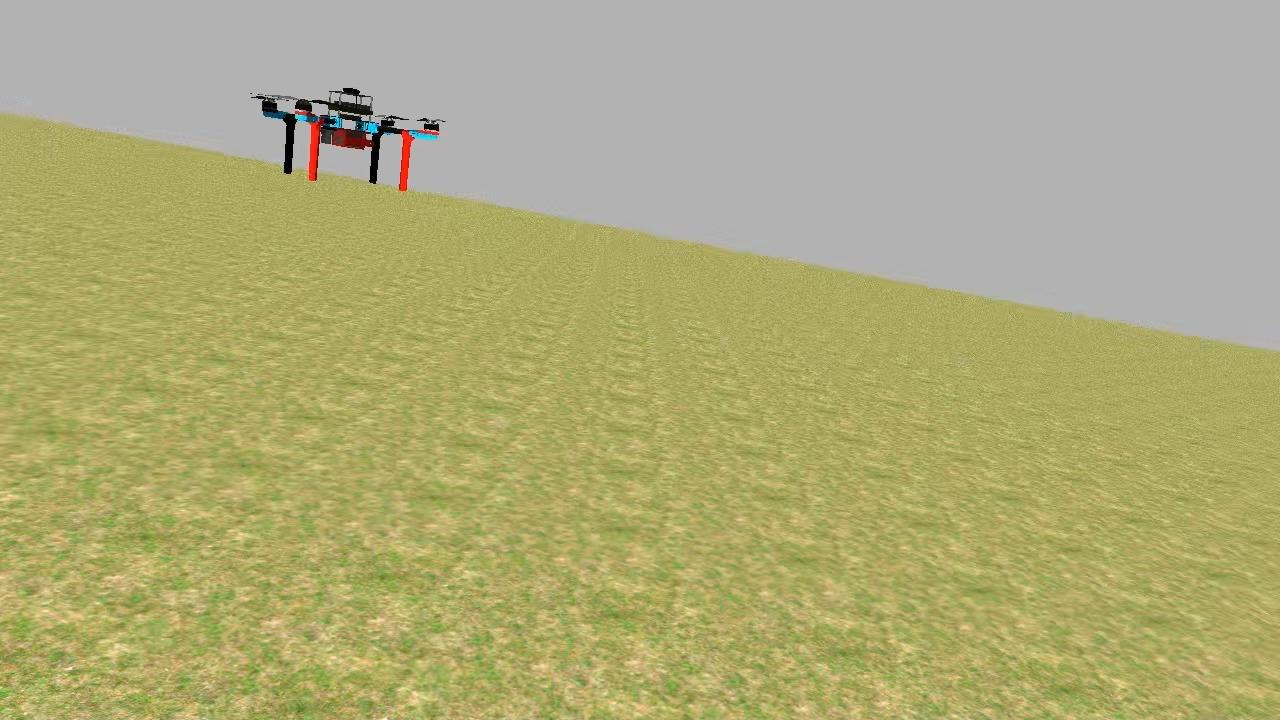UAV: (250, 76, 446, 198)
